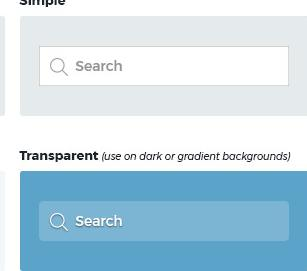field: (39, 200, 291, 243), (39, 45, 289, 87)
